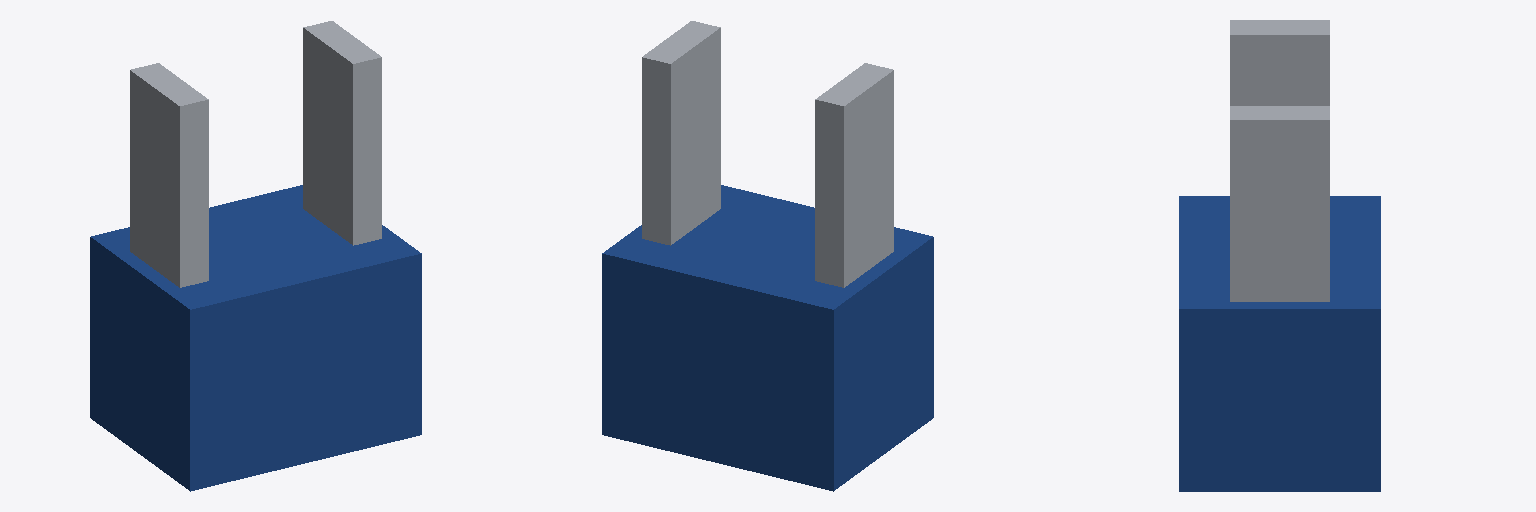
The robot description file, URDF, robot "demo_gripper":
<?xml version="1.0"?>
<robot name="demo_gripper">
  <link name="gripper_base">
    <visual>
      <origin xyz="0 0 0.03"/>
      <geometry><box size="0.08 0.06 0.06"/></geometry>
      <material name="housing"><color rgba="0.18 0.35 0.6 1"/></material>
    </visual>
    <visual>
      <origin xyz="0.03 0 0.09"/>
      <geometry><mesh filename="package://demo_gripper/meshes/finger.stl"/></geometry>
      <material name="finger"><color rgba="0.7 0.72 0.75 1"/></material>
    </visual>
    <visual>
      <origin xyz="-0.03 0 0.09"/>
      <geometry><mesh filename="package://demo_gripper/meshes/finger.stl"/></geometry>
      <material name="finger"/>
    </visual>
  </link>
</robot>

--- Facts derived from the render (not from the file) ---
Views: 3 orthographic renders of the robot side by side, from view 1: azimuth 30°, elevation 25°; view 2: azimuth 150°, elevation 25°; view 3: azimuth 270°, elevation 25°.
Robot: demo_gripper — 1 links, 0 joints (none); root link gripper_base; default pose: all joints at 0.
Visible links, largest first — view 1: gripper_base; view 2: gripper_base; view 3: gripper_base.
Link boxes in pixels (box(x1,y1,x2,y2)): gripper_base: box(90, 21, 421, 491); gripper_base: box(602, 21, 933, 491); gripper_base: box(1179, 20, 1380, 491).
Size in the robot's own frame: 0.08 by 0.06 by 0.12 metres.
2 mesh visuals loaded from 1 distinct referenced files (1 ASCII STL).
